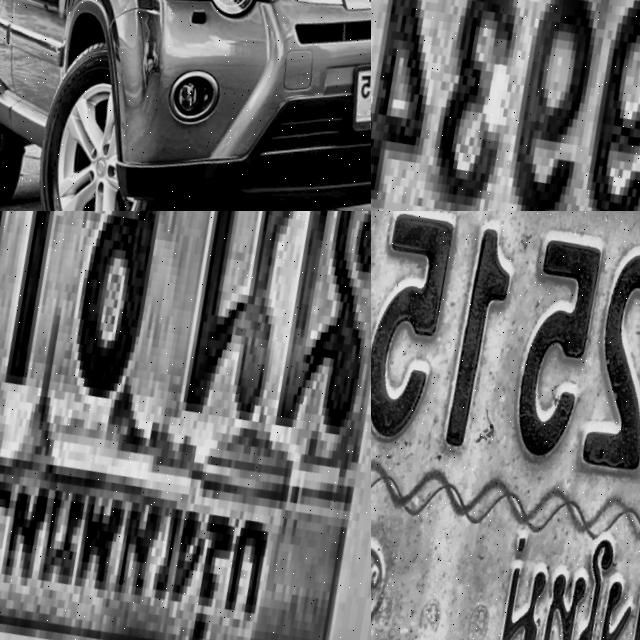license-plate: (0, 211, 371, 640), (371, 211, 640, 640), (371, 0, 640, 211), (326, 40, 371, 167)
